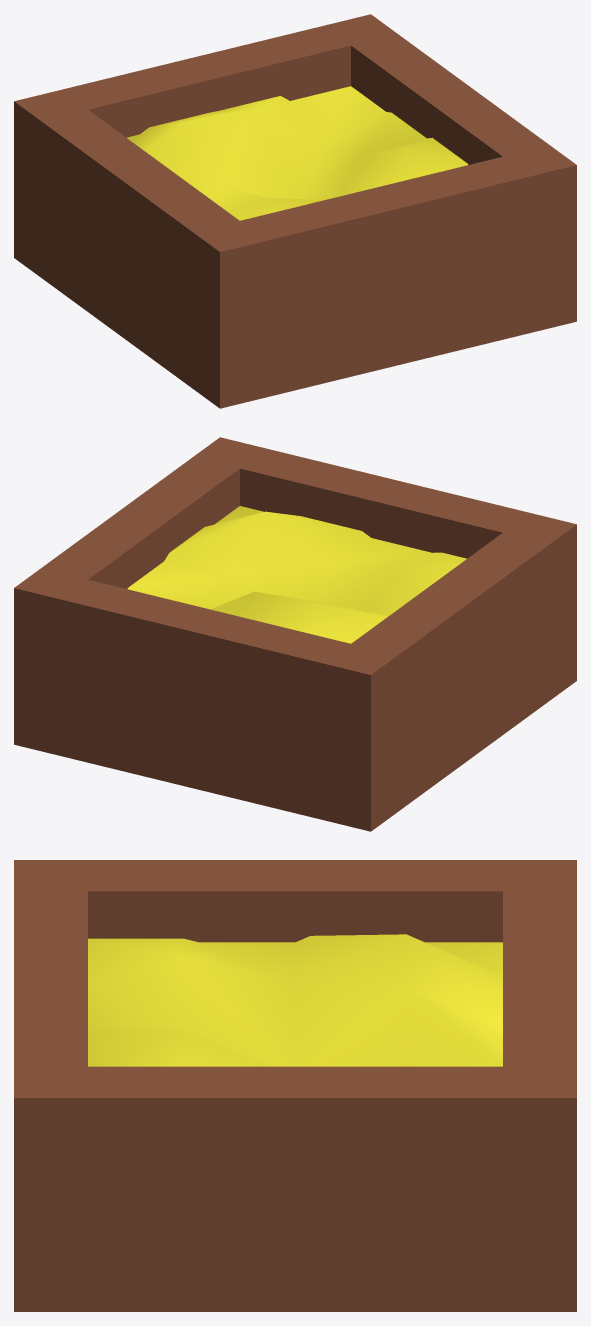
Rendered from Market_goods_4.fbx.
The picture shows the model from 3 angles, top to bottom: view 1: azimuth 30°, elevation 25°; view 2: azimuth 150°, elevation 25°; view 3: azimuth 270°, elevation 25°; orthographic projection. The views are drawn at different scales.
Visible parts, largest first — view 1: Market_goods_4; view 2: Market_goods_4; view 3: Market_goods_4.
Part boxes in pixels (x1,y1,x2,y2): Market_goods_4: [14, 14, 576, 408]; Market_goods_4: [14, 437, 576, 831]; Market_goods_4: [14, 860, 576, 1311].
Size of the model in its own units: 0.228 by 0.0956 by 0.228.
